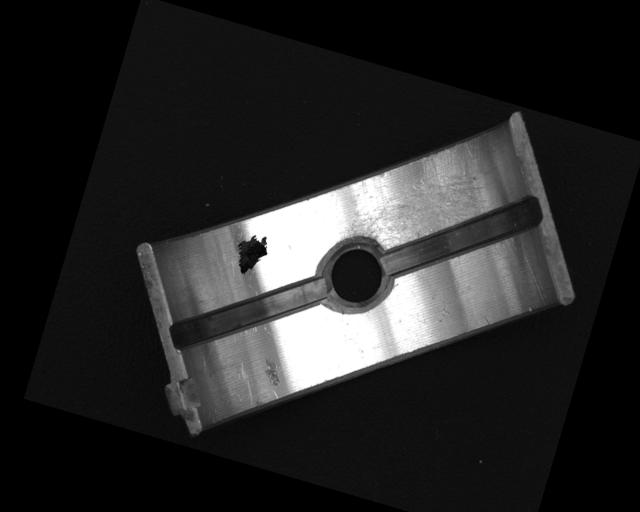blot: (229, 229, 273, 281)
bruise: (257, 355, 286, 388)
gap: (377, 162, 546, 313), (164, 243, 327, 385)
hole: (308, 227, 403, 323)
scratch: (342, 113, 504, 278)
